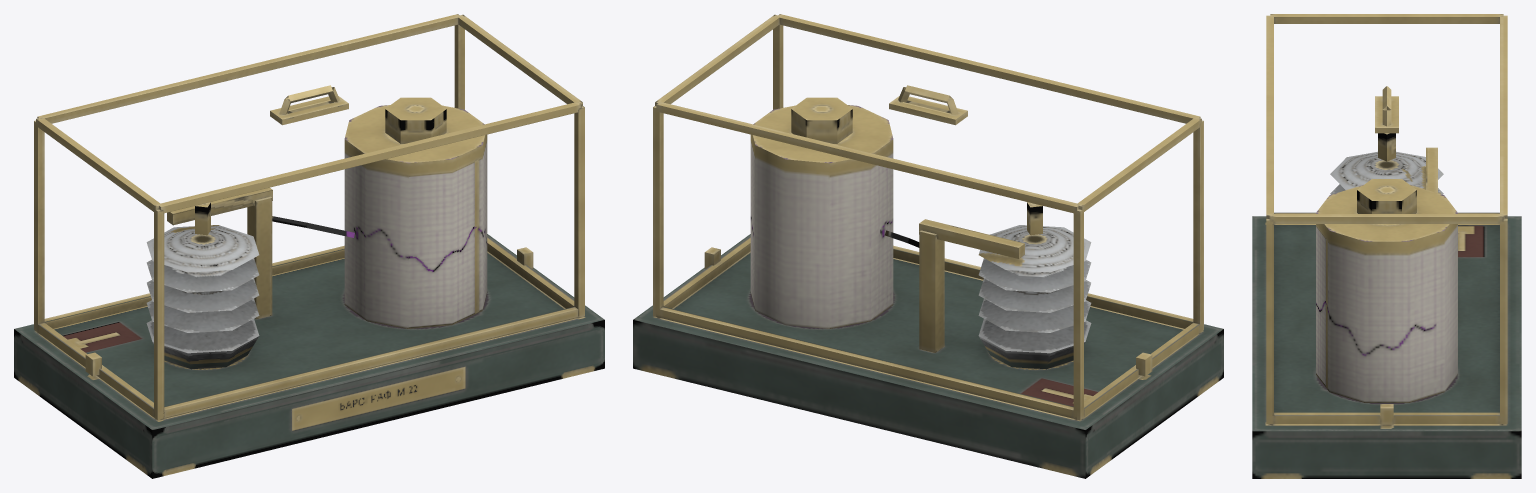
Rendered from barograph_m22.glb.
3 views of the same model, side by side, from view 1: azimuth 30°, elevation 25°; view 2: azimuth 150°, elevation 25°; view 3: azimuth 270°, elevation 25° (orthographic). The views are drawn at different scales.
Visible parts, largest first — view 1: barograph_m22_lo; view 2: barograph_m22_lo; view 3: barograph_m22_lo.
Boxes of the visible parts, x1,y1,x2,y2 form: barograph_m22_lo: (14,14,604,478); barograph_m22_lo: (633,14,1223,478); barograph_m22_lo: (1252,14,1521,478).
Bounding box in the file's own units: 0.34 × 0.203 × 0.18.
1 material, 1 textured.
